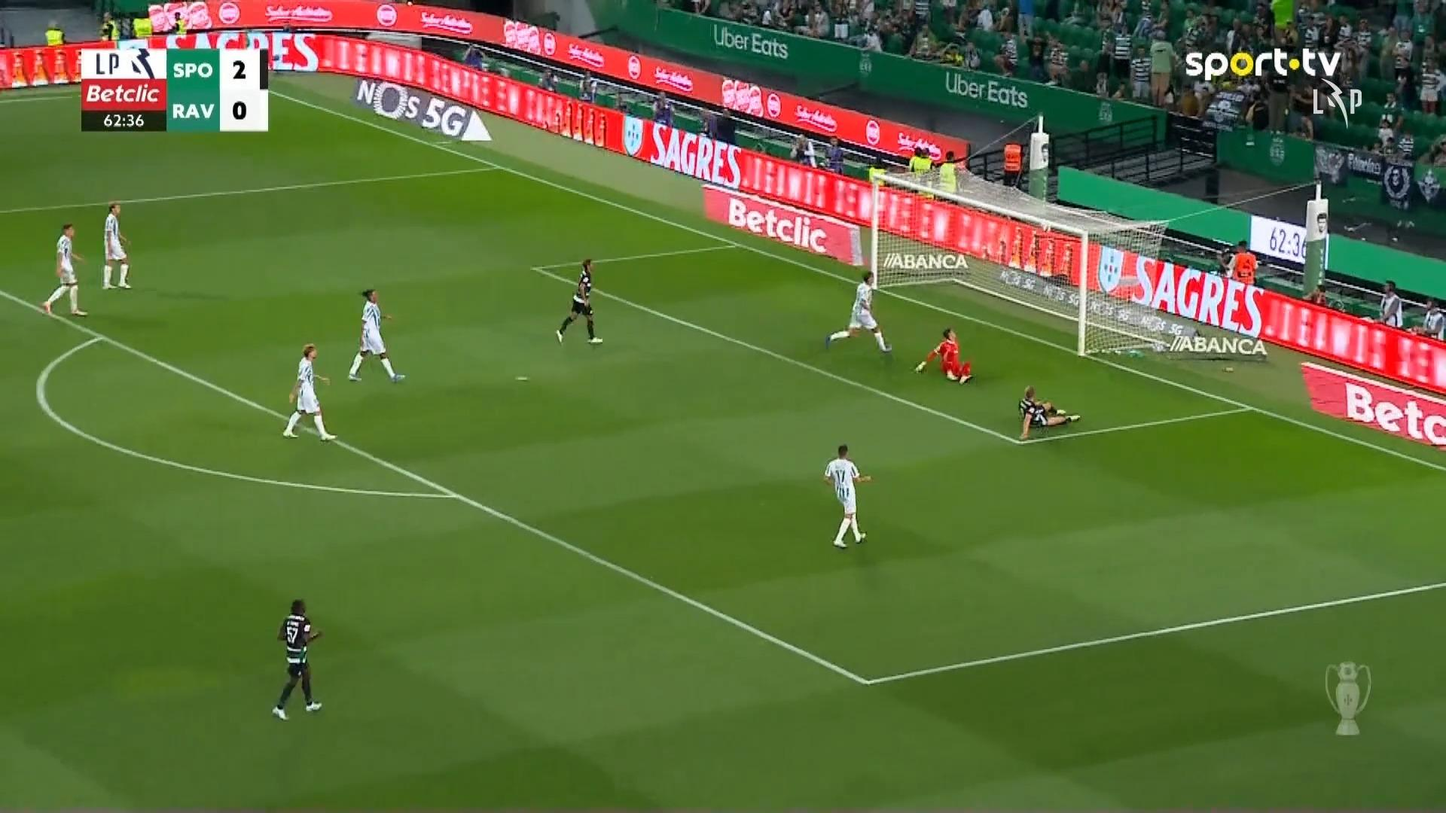goalkeeper: (913, 327, 973, 384)
player: (270, 598, 323, 720), (823, 269, 892, 353), (346, 288, 406, 383), (281, 343, 337, 441), (822, 443, 872, 548), (41, 222, 88, 316), (554, 257, 603, 345), (1017, 384, 1081, 440), (101, 202, 132, 289)
